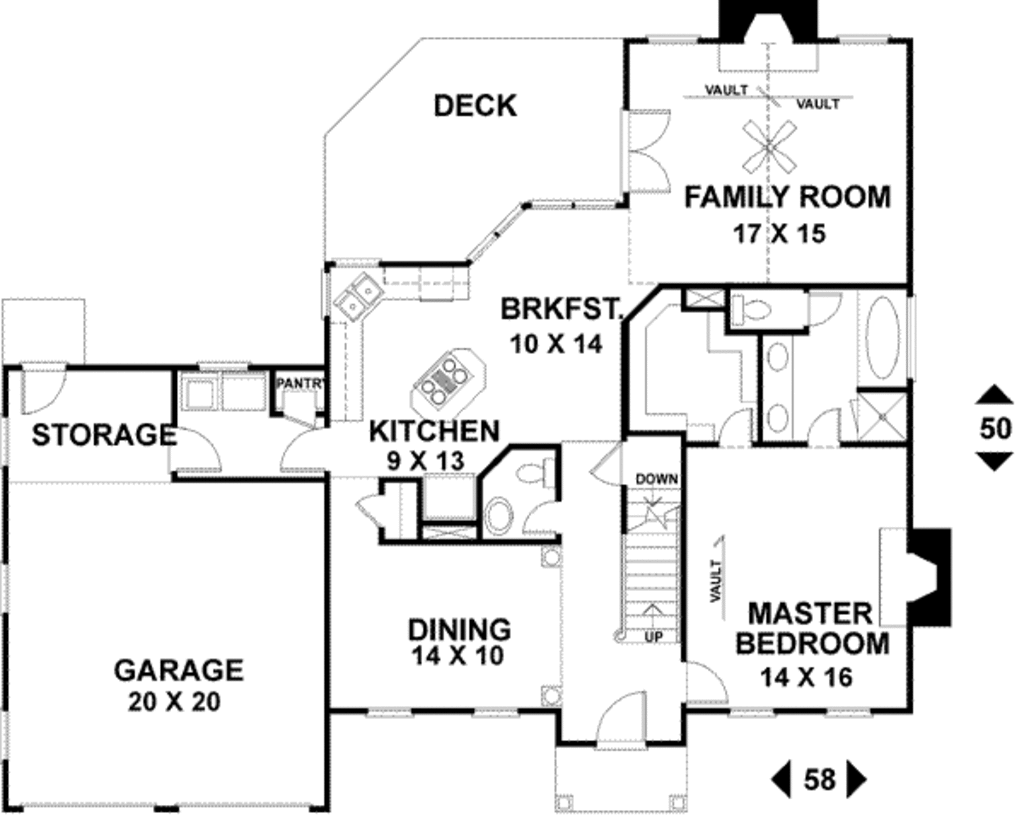door: (616, 108, 674, 199), (163, 424, 224, 484), (20, 359, 68, 422), (597, 688, 647, 747), (276, 424, 330, 473), (677, 659, 728, 706), (711, 403, 754, 447), (804, 406, 843, 448), (808, 288, 843, 334), (522, 497, 560, 535), (357, 485, 388, 527)
large_sink: (726, 289, 779, 336), (513, 452, 562, 493)
small_sink: (756, 336, 797, 437)
stairs: (616, 468, 690, 646)
tub: (852, 283, 909, 390)
twin_sink: (335, 272, 383, 319)
windows: (641, 25, 707, 51), (528, 197, 615, 215), (827, 29, 890, 50)
